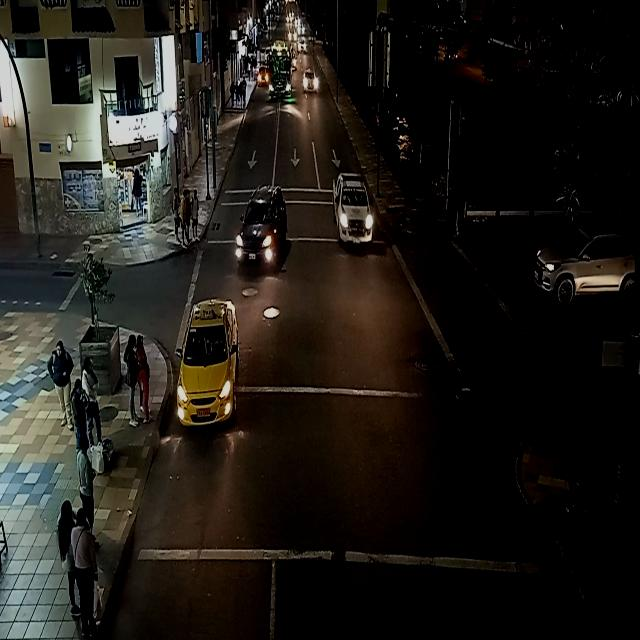BUS: (269, 40, 291, 97)
CMT: (337, 178, 374, 245)
SED: (179, 299, 240, 426), (305, 70, 318, 92)
SUV: (535, 227, 636, 297), (238, 190, 287, 270)
